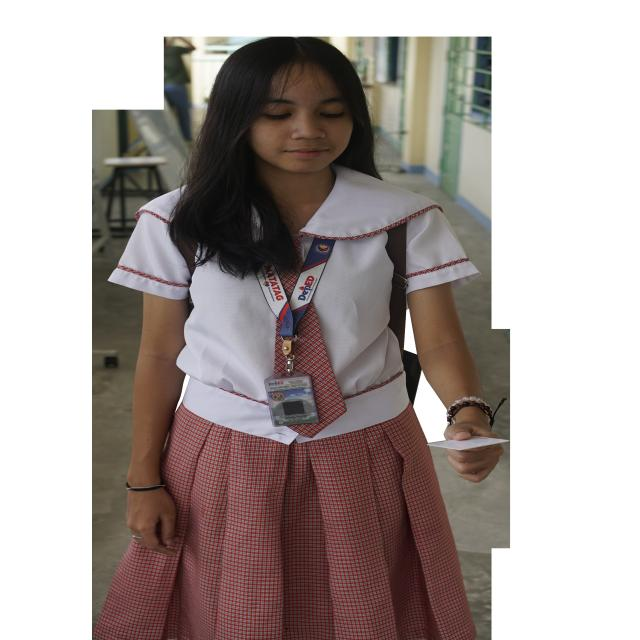id lace: (256, 238, 336, 340)
pologirl: (109, 190, 311, 444), (293, 167, 479, 438)
skirt: (93, 404, 475, 640)
